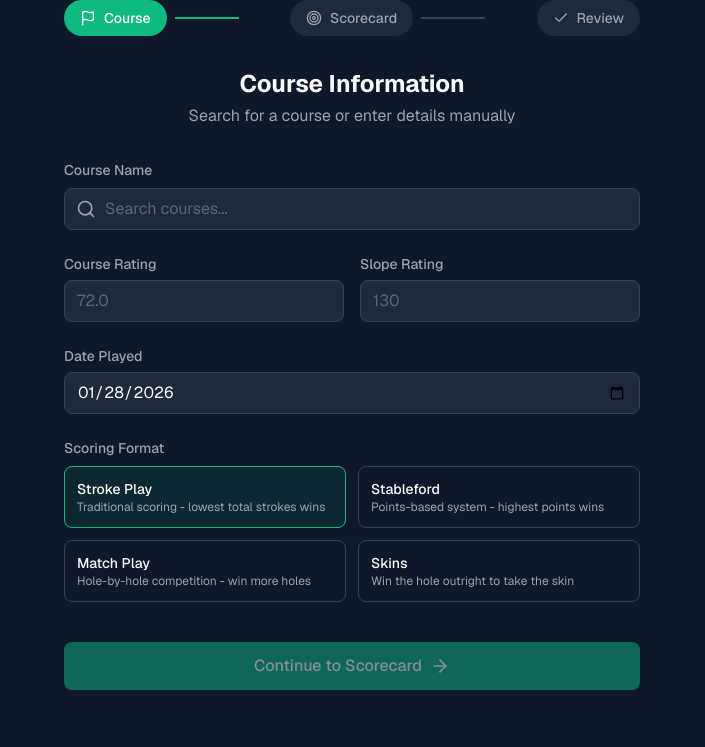
Test: NewRoundPage › should navigate to holes step when next is clicked
// CourseSearch has input with placeholder "Search courses..."
Type "Test Course" into the field with placeholder "Search courses...".
click(352, 209); type("Test Course")  # box [64,188,640,230]
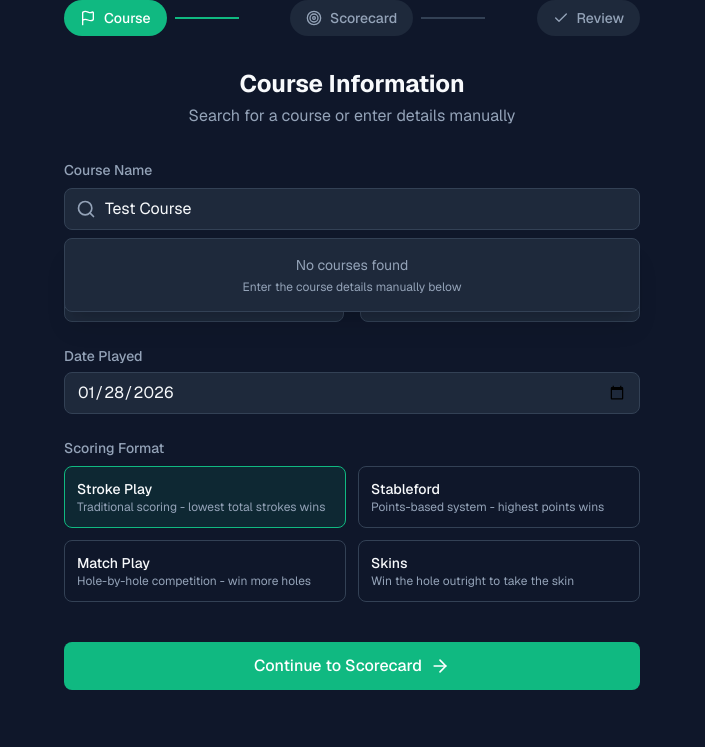
Click the button "Continue to Scorecard".
click(352, 666)  # box [64,642,640,690]
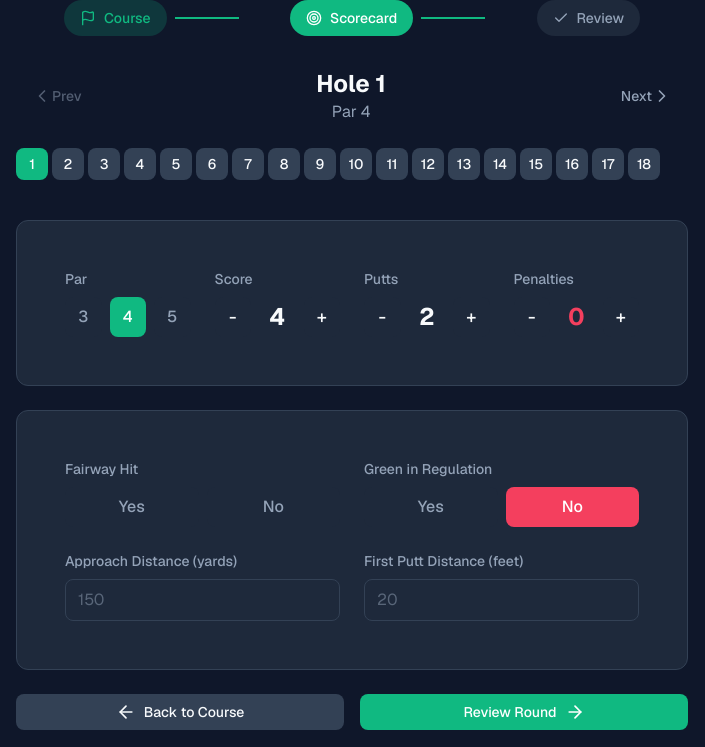
expect the heading "Hole 1" is shown: met, box [316,68,386,100]
